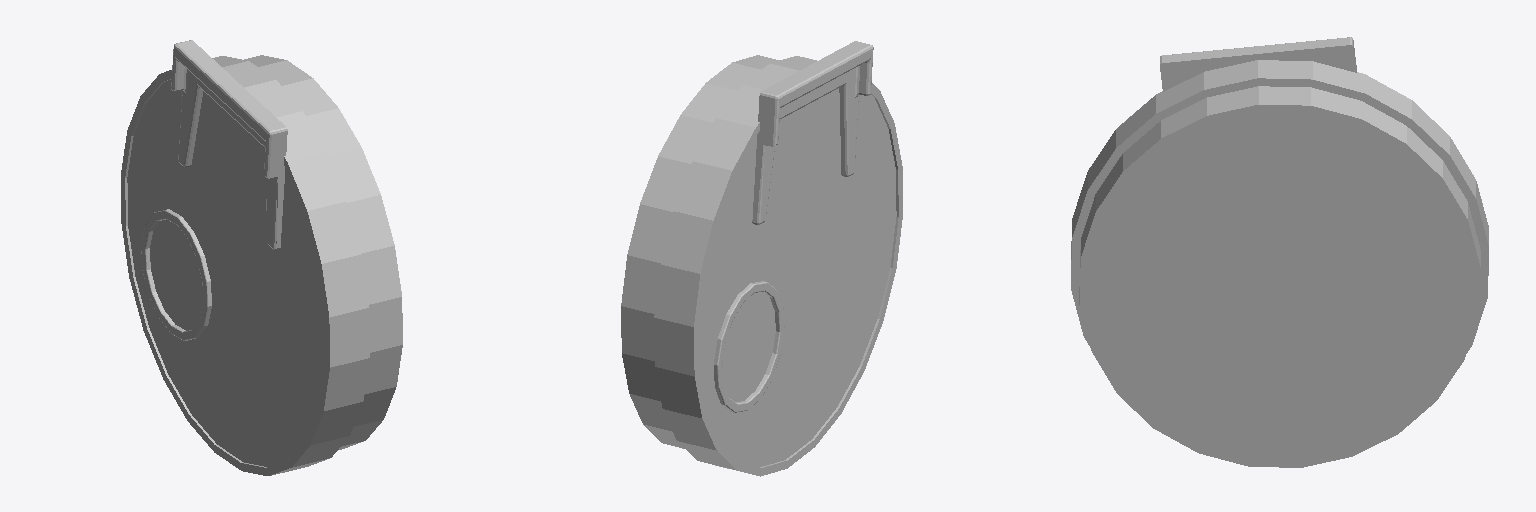
Rendered from FilmReel.obj.
3 views of the same model, side by side, from view 1: azimuth 30°, elevation 25°; view 2: azimuth 150°, elevation 25°; view 3: azimuth 270°, elevation 25° (orthographic).
Bounding box in the file's own units: 0.0581 × 0.2344 × 0.2255.